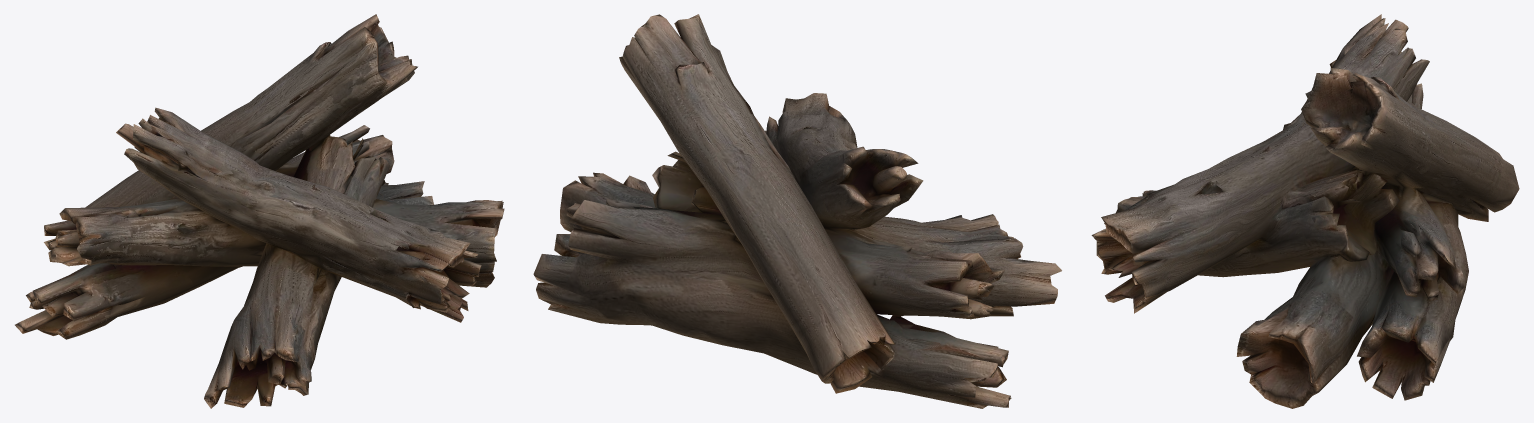
Rendered from wood_logs_brazier.glb.
The picture shows the model from 3 angles, left to right: view 1: azimuth 30°, elevation 25°; view 2: azimuth 150°, elevation 25°; view 3: azimuth 270°, elevation 25°; orthographic projection. The views are drawn at different scales.
Visible parts, largest first — view 1: tripo_node_be11fedc-747e-4e4c-b71a-92317338b8d1; view 2: tripo_node_be11fedc-747e-4e4c-b71a-92317338b8d1; view 3: tripo_node_be11fedc-747e-4e4c-b71a-92317338b8d1.
Part boxes in pixels (x1,y1,x2,y2): tripo_node_be11fedc-747e-4e4c-b71a-92317338b8d1: (15,14,504,408); tripo_node_be11fedc-747e-4e4c-b71a-92317338b8d1: (533,14,1061,408); tripo_node_be11fedc-747e-4e4c-b71a-92317338b8d1: (1091,14,1519,408).
Size of the model in its own units: 0.9786 by 0.58 by 0.7412.
Materials: 1 (1 with a texture image).
